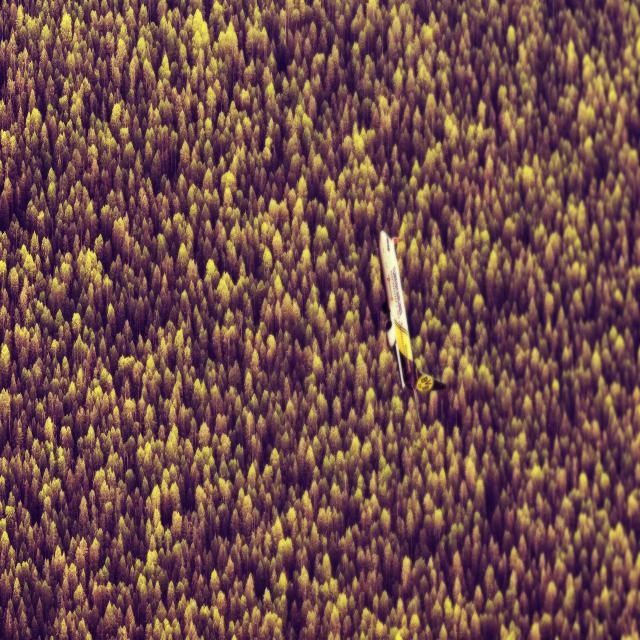airplane: (377, 229, 446, 426)
